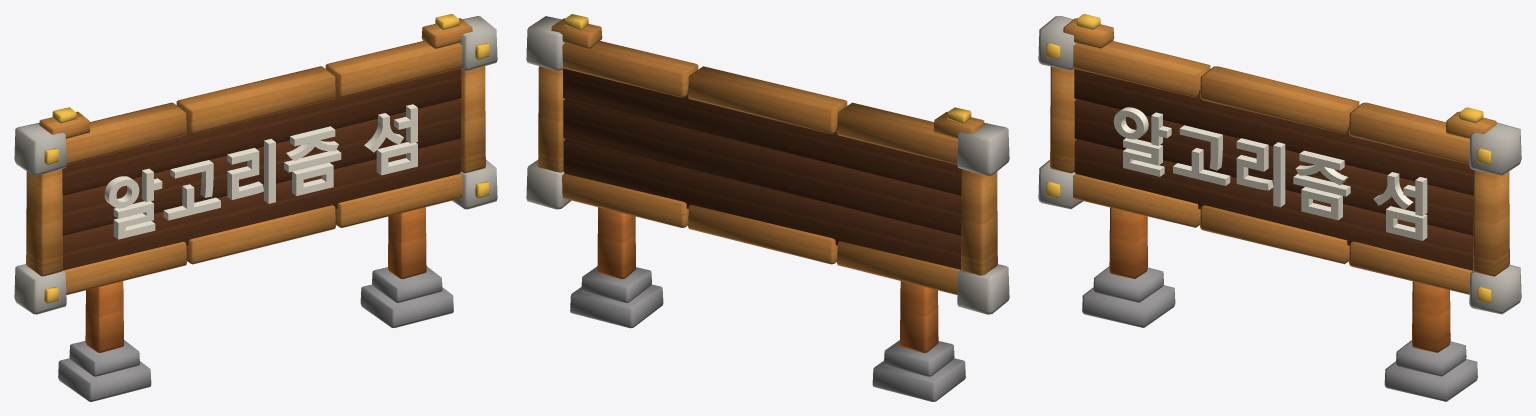
The model's file is OBJ20_sign_algo.glb.
3 renders of one model, left to right at view 1: azimuth 30°, elevation 25°; view 2: azimuth 150°, elevation 25°; view 3: azimuth 330°, elevation 25°, orthographic.
Parts seen in each view (by area): view 1: Frame, Plank_2, Label, Plank_0, Plank_1, Leg_-1, Leg_1, FootLow_-1, FootLow_1, CornerCap_-1_1, CornerCap_-1_-1, FootUp_1 (+5 smaller); view 2: Frame, Plank_1, Plank_0, Plank_2, Leg_-1, Leg_1, FootLow_-1, FootLow_1, CornerCap_-1_1, CornerCap_-1_-1, FootUp_1, FootUp_-1 (+4 smaller); view 3: Frame, Plank_2, Label, Plank_0, Plank_1, Leg_1, Leg_-1, FootLow_1, FootLow_-1, CornerCap_1_1, CornerCap_1_-1, FootUp_-1 (+5 smaller).
Part boxes in pixels (bbox=[...]): Frame: bbox=[26, 41, 485, 294]; Plank_2: bbox=[62, 68, 461, 195]; Label: bbox=[104, 104, 417, 239]; Plank_0: bbox=[62, 139, 461, 270]; Plank_1: bbox=[62, 99, 461, 235]; Leg_-1: bbox=[85, 281, 123, 352]; Leg_1: bbox=[388, 207, 426, 279]; FootLow_-1: bbox=[58, 358, 151, 401]; FootLow_1: bbox=[360, 284, 453, 327]; CornerCap_-1_1: bbox=[14, 123, 66, 175]; CornerCap_-1_-1: bbox=[14, 264, 66, 314]; FootUp_1: bbox=[372, 266, 442, 302]; Frame: bbox=[538, 41, 997, 294]; Plank_1: bbox=[563, 99, 961, 235]; Plank_0: bbox=[563, 139, 961, 269]; Plank_2: bbox=[563, 68, 961, 195]; Leg_-1: bbox=[900, 281, 938, 352]; Leg_1: bbox=[597, 207, 635, 279]; FootLow_-1: bbox=[872, 358, 965, 401]; FootLow_1: bbox=[570, 284, 663, 328]; CornerCap_-1_1: bbox=[957, 123, 1009, 175]; CornerCap_-1_-1: bbox=[957, 264, 1009, 314]; FootUp_1: bbox=[581, 266, 651, 302]; FootUp_-1: bbox=[884, 340, 954, 376]; Frame: bbox=[1050, 41, 1509, 294]; Plank_2: bbox=[1074, 69, 1473, 195]; Label: bbox=[1113, 107, 1427, 240]; Plank_0: bbox=[1074, 139, 1473, 270]; Plank_1: bbox=[1074, 99, 1473, 235]; Leg_1: bbox=[1412, 281, 1450, 352]; Leg_-1: bbox=[1109, 207, 1147, 278]; FootLow_1: bbox=[1384, 359, 1477, 401]; FootLow_-1: bbox=[1082, 285, 1175, 327]; CornerCap_1_1: bbox=[1469, 122, 1521, 175]; CornerCap_1_-1: bbox=[1469, 264, 1521, 314]; FootUp_-1: bbox=[1093, 266, 1163, 302].
Bounding box in the file's own units: 2.33 × 1.35 × 0.28.
7 materials, 3 textured.
